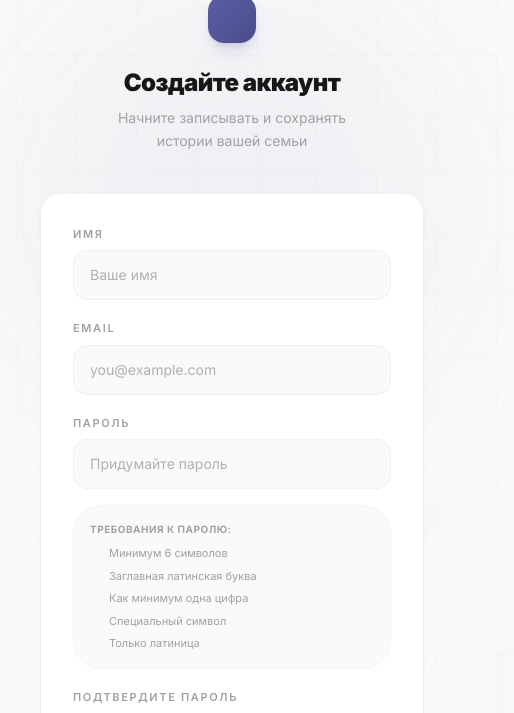
Test: RegisterPage › shows error for mismatched passwords
Type "Test" into the field with placeholder "Ваше имя" at point(232, 275), box x1=73 y1=250 x2=391 y2=300
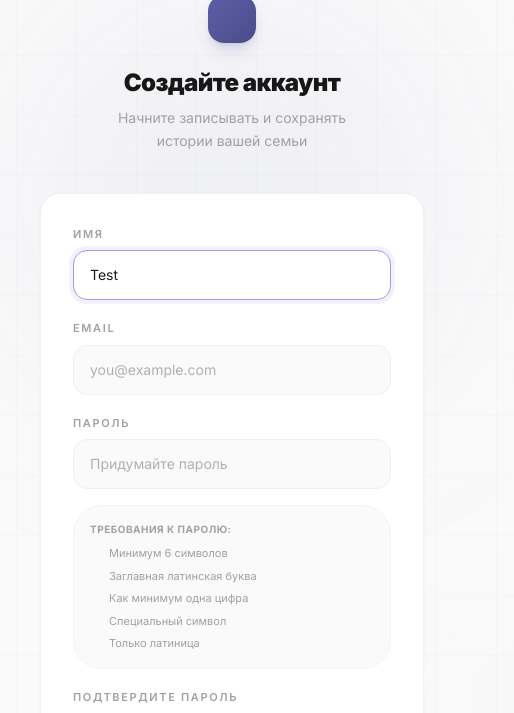
Type "test@example.com" into the field with placeholder "you@example.com" at point(232, 370), box x1=73 y1=344 x2=391 y2=394
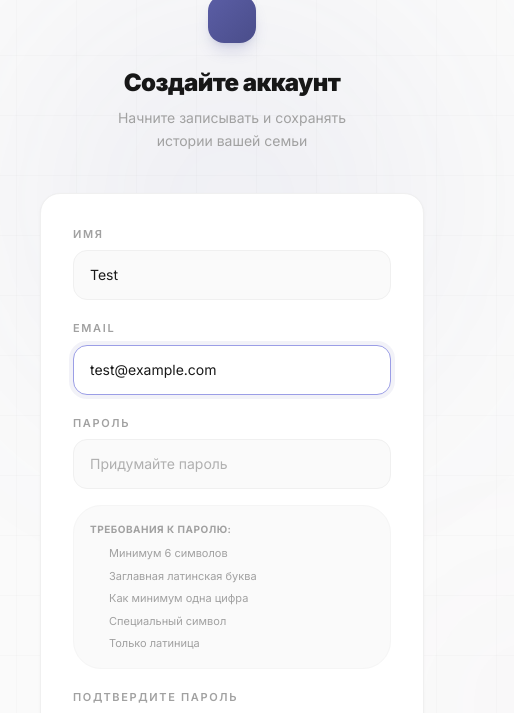
Type "password123" into the password field with placeholder "Придумайте пароль" at point(232, 464), box x1=73 y1=439 x2=391 y2=489
(page scrolled)
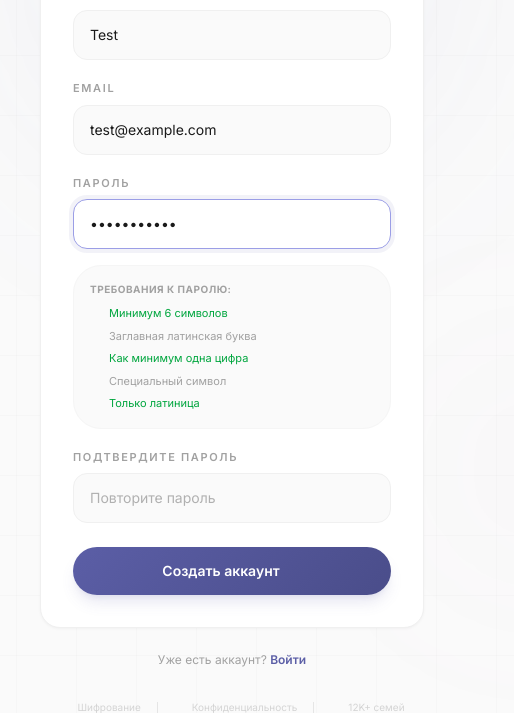
Type "different123" into the password field with placeholder "Повторите пароль" at point(232, 498), box x1=73 y1=473 x2=391 y2=523
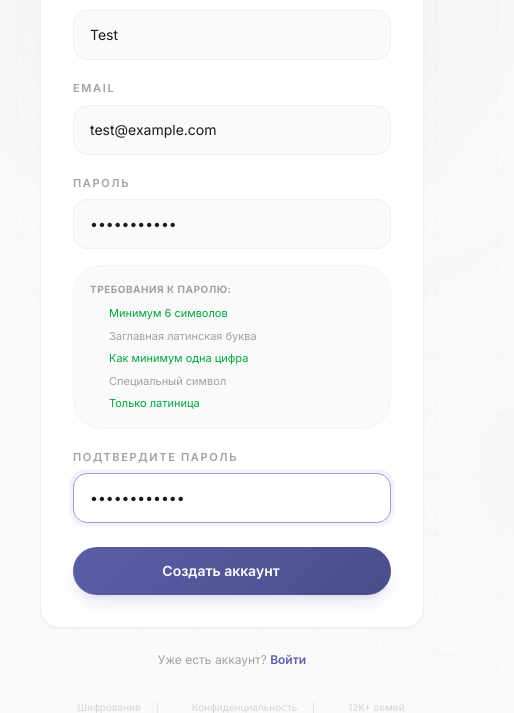
Click the button "Создать аккаунт" at point(232, 571), box x1=73 y1=547 x2=391 y2=595
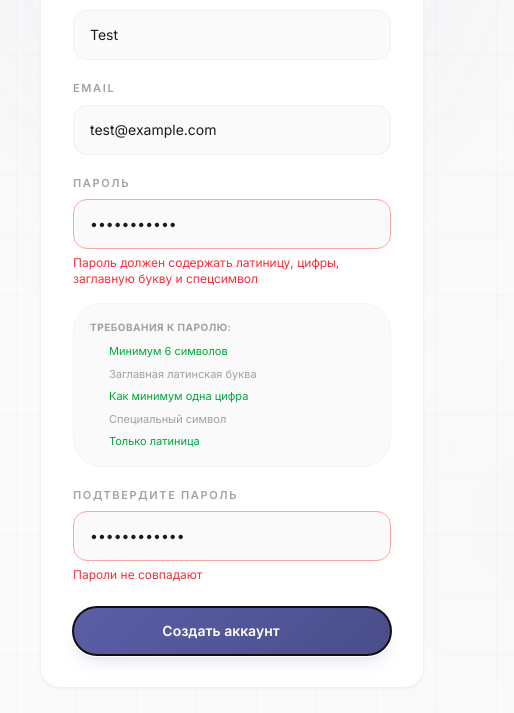
Expected: the text "Пароли не совпадают" is shown, x1=73 y1=567 x2=202 y2=582
